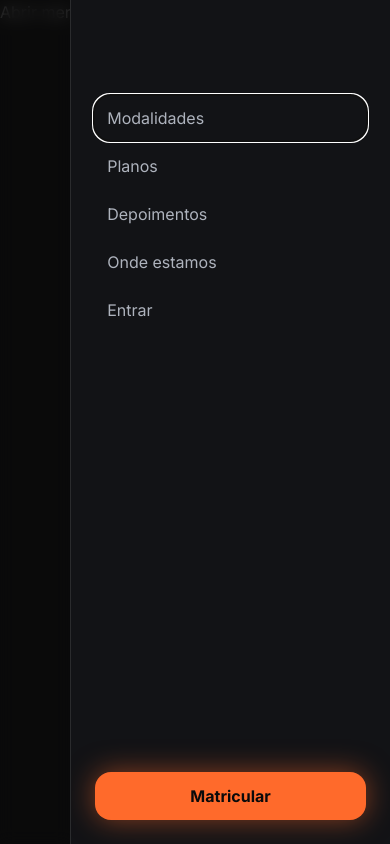
Test case: MobileMenu › closes when a nav link is clicked
Click the link "Modalidades" at coordinates (156, 118), box [107, 108, 204, 128]
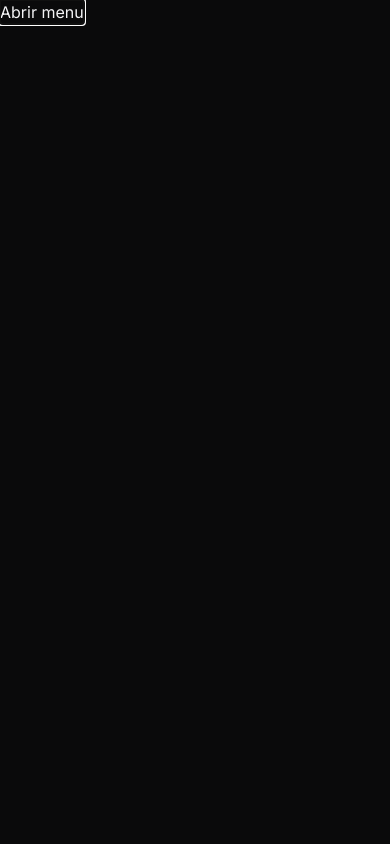
Expected: the dialog is gone
